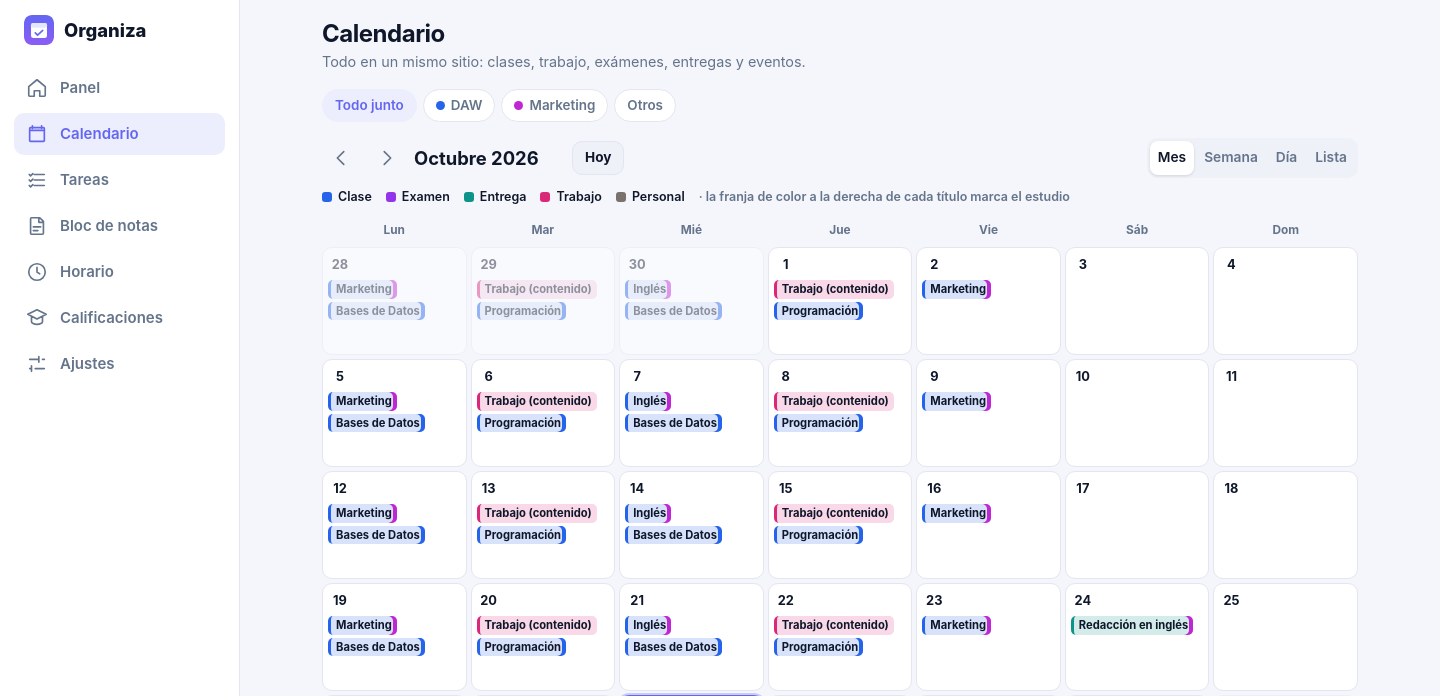
Test: app › calendario: cambia entre mes, semana y día
Click the button "Semana" at (1231, 158), box [1196,141,1266,175]
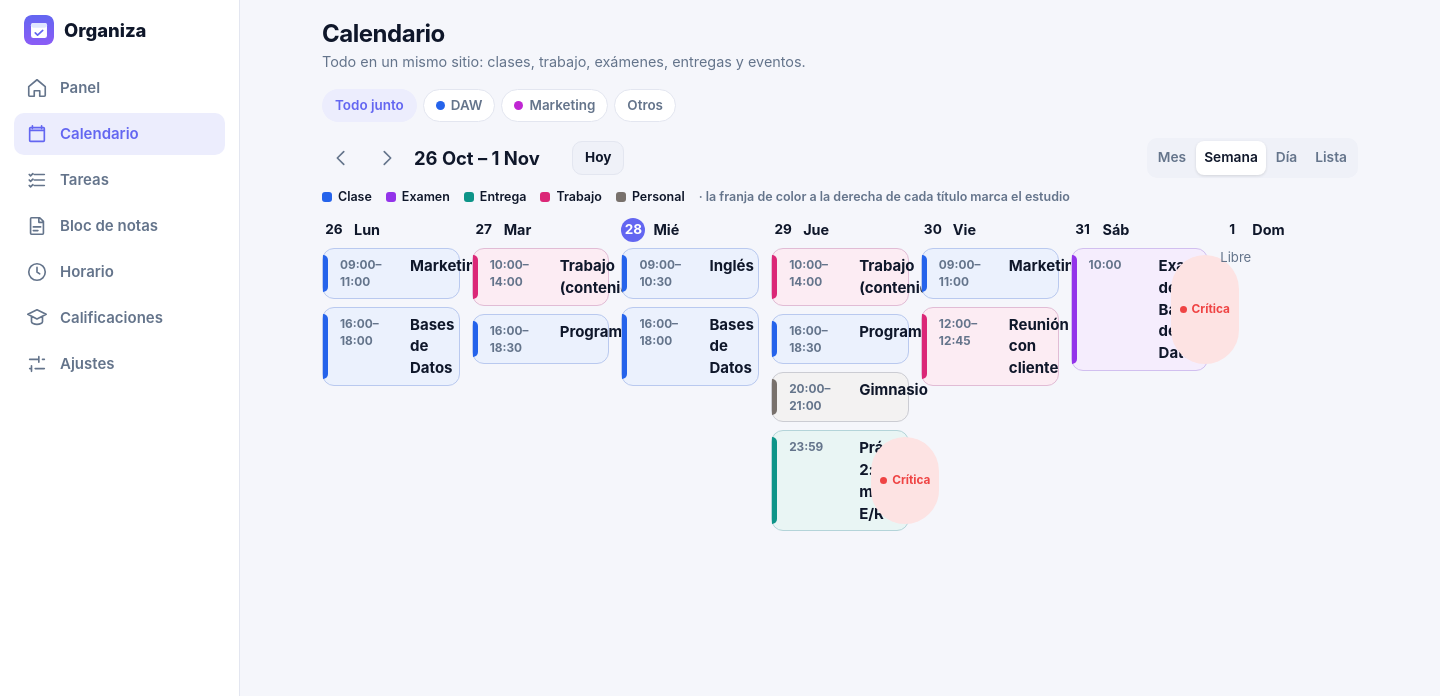
Click the button "Día" at (1286, 158), box [1268,141,1305,175]
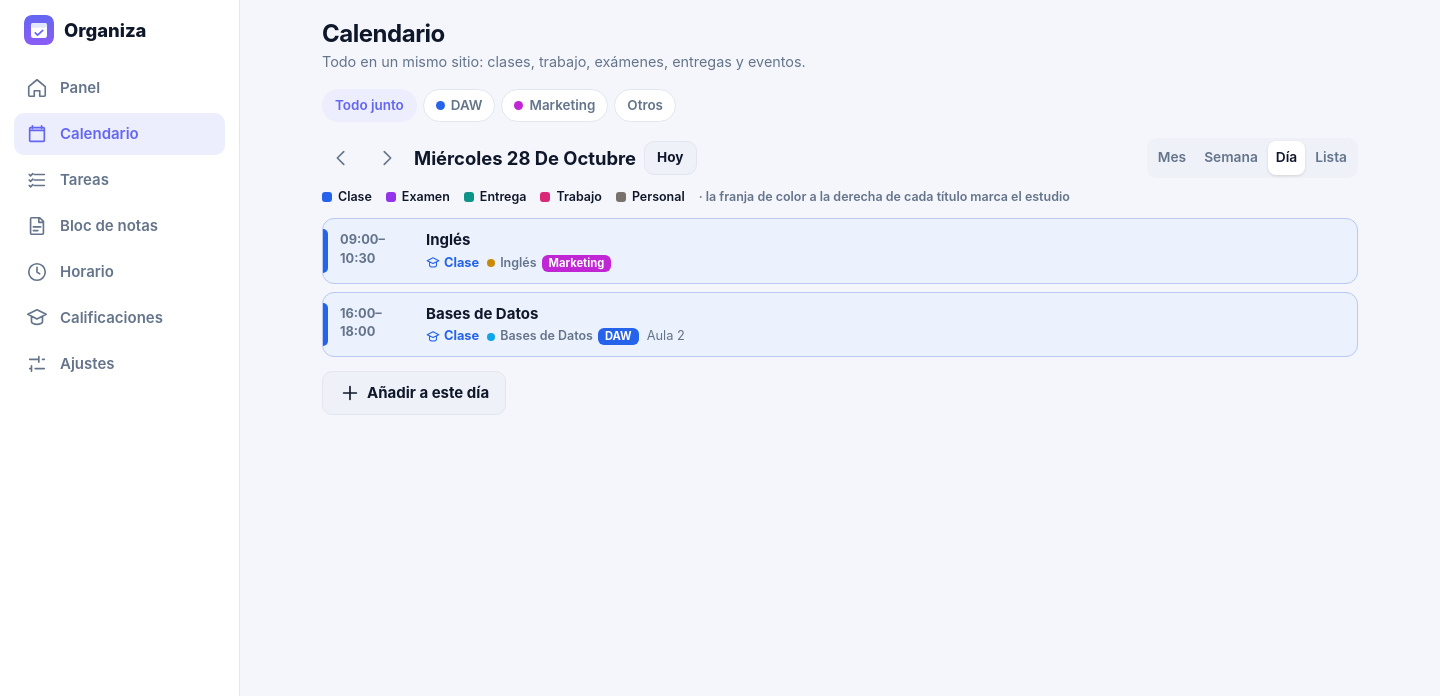
Click the button "Mes" at (1172, 158), box [1150,141,1194,175]
(page scrolled)
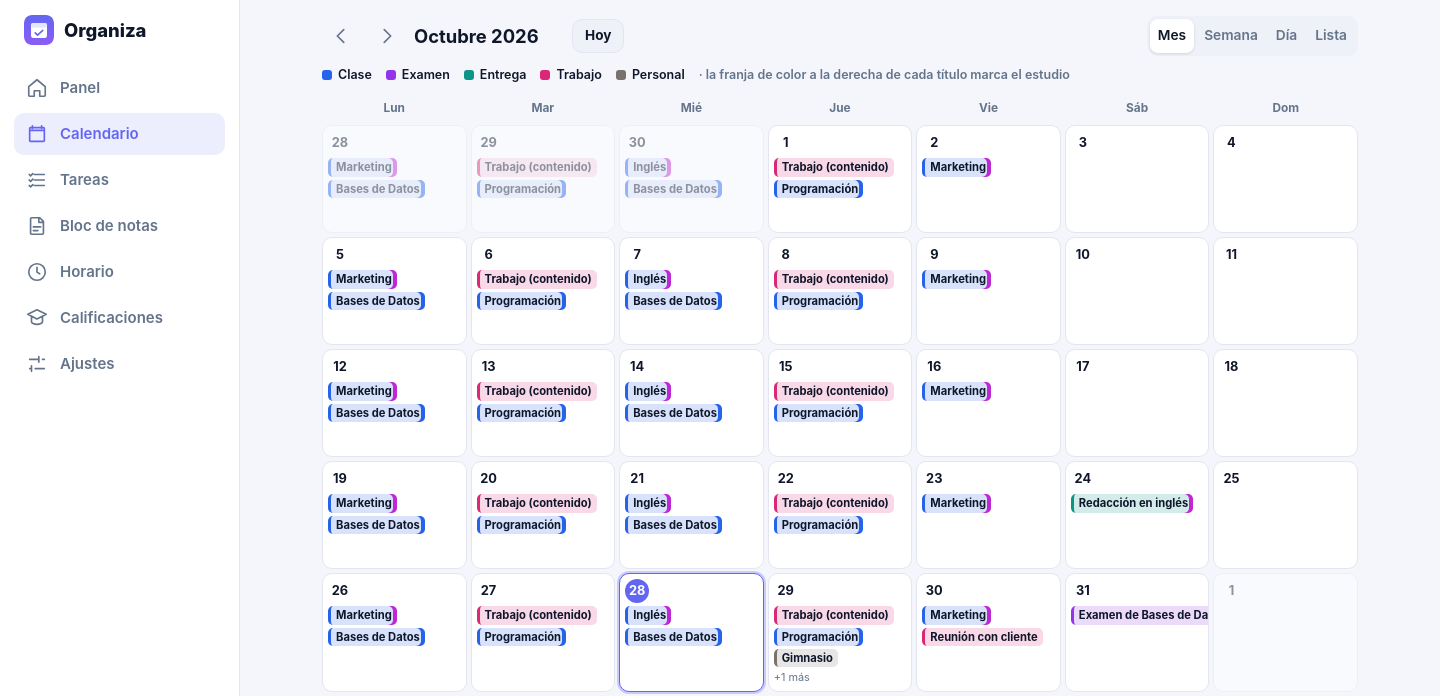
Now the element with class "month" is shown
